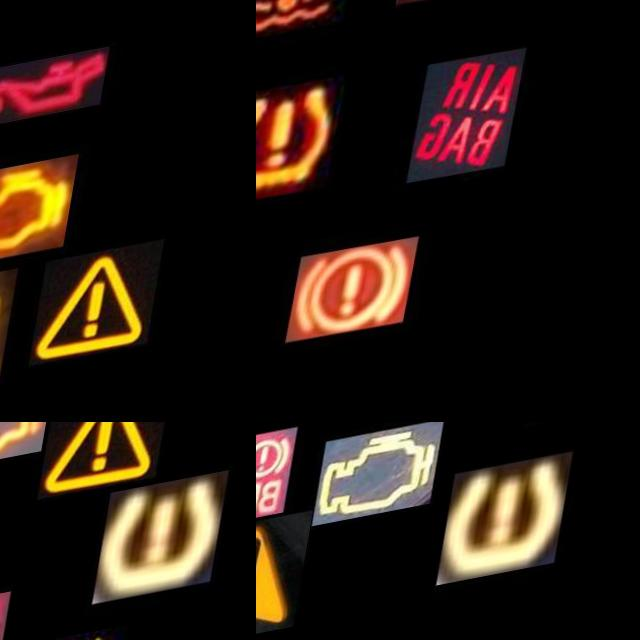Central Warning lamp: (51, 261, 183, 384), (45, 422, 177, 514), (256, 522, 329, 640)
Engine cooling system: (256, 0, 370, 55), (531, 422, 640, 459)
